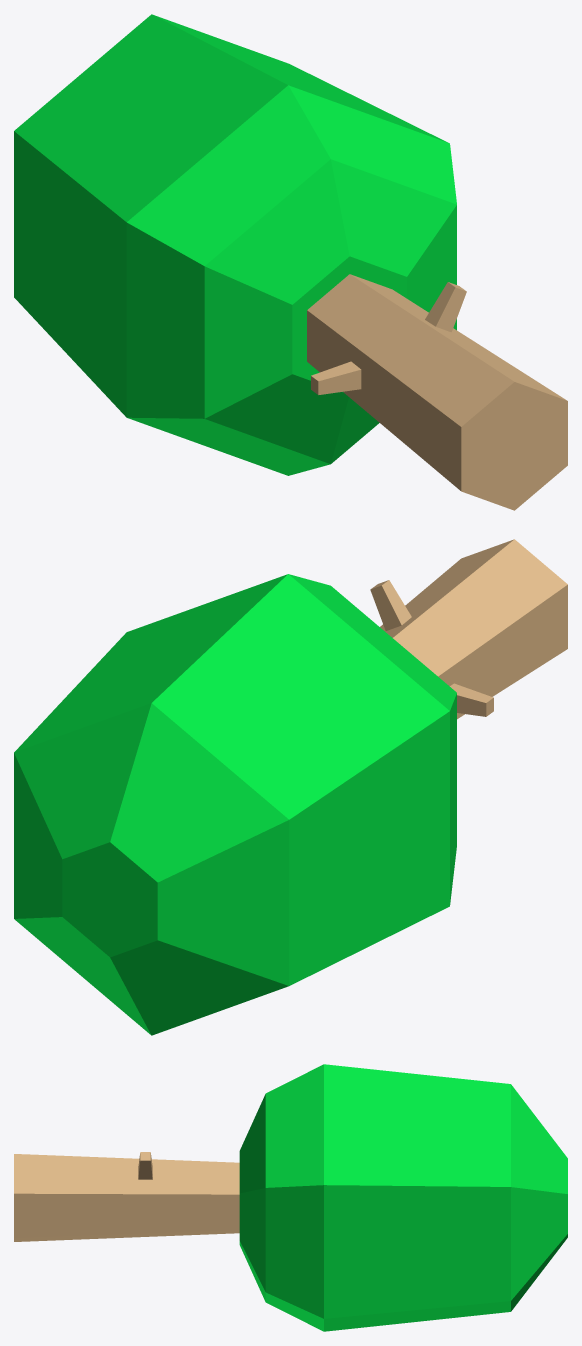
The model's file is Tree_Normal.fbx.
3 renders of one model, top to bottom at view 1: azimuth 30°, elevation 25°; view 2: azimuth 150°, elevation 25°; view 3: azimuth 270°, elevation 25°, orthographic. The views are drawn at different scales.
Parts seen in each view (by area): view 1: 円柱.001; view 2: 円柱.001; view 3: 円柱.001.
Part boxes in pixels (bbox=[...]): 円柱.001: bbox=[14, 14, 567, 510]; 円柱.001: bbox=[14, 539, 567, 1035]; 円柱.001: bbox=[14, 1064, 567, 1331].
Bounding box in the file's own units: 5.25 × 6.06 × 11.38.
